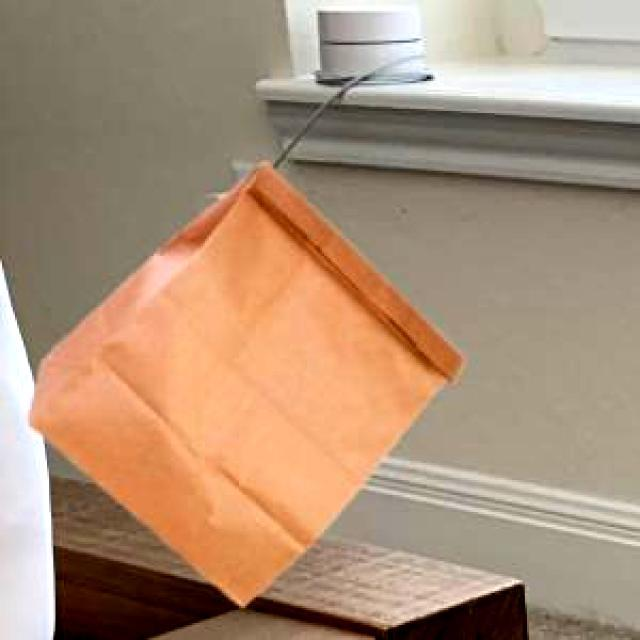Paper_Bag: (24, 159, 462, 603)
